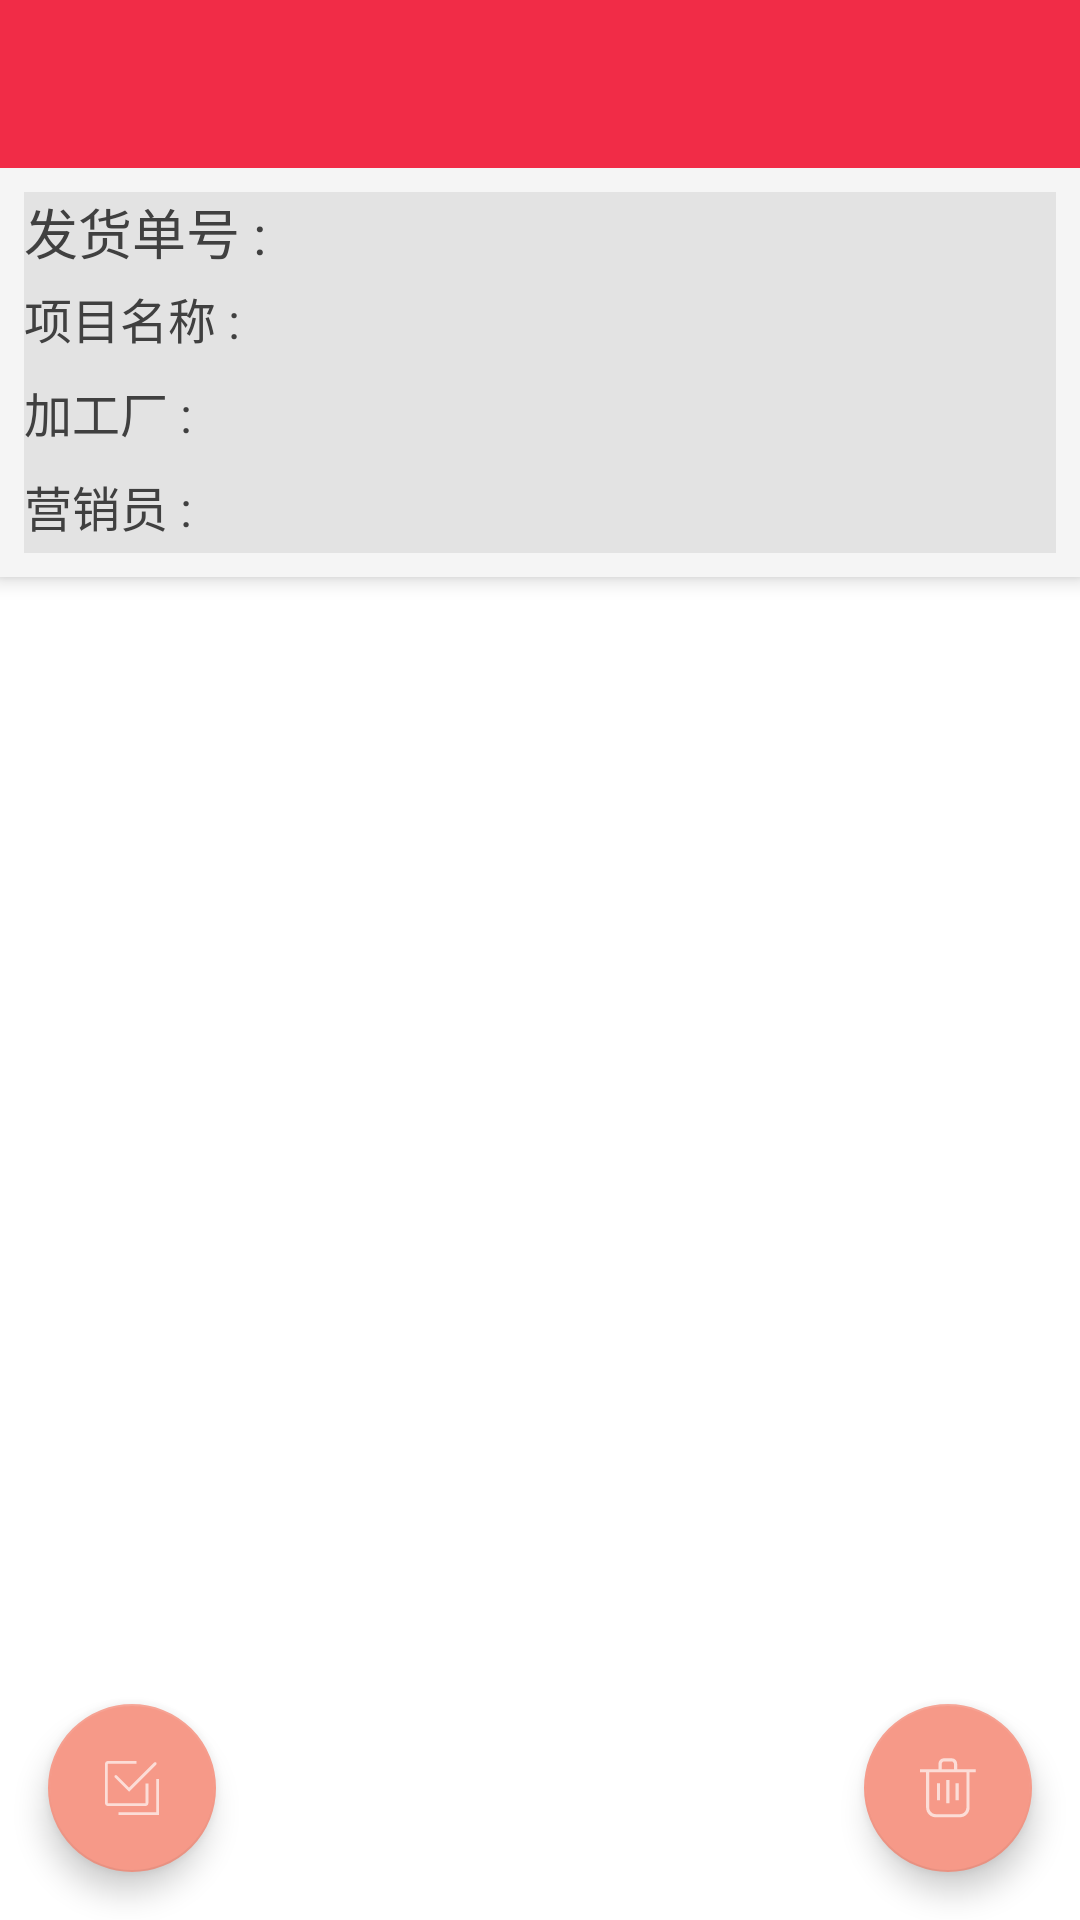

Screen size 1080*1920. Icon name, then its box in pixels as (x1, y1, x2, y2):
choose all: (48, 1704, 216, 1872)
proline del: (864, 1704, 1032, 1872)
